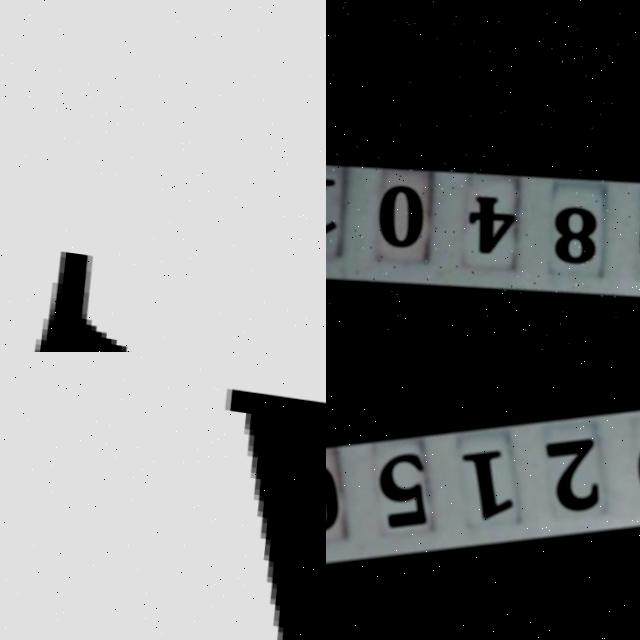0: (358, 164, 447, 270), (615, 182, 640, 299), (326, 445, 354, 546)
1: (448, 435, 528, 535), (326, 163, 364, 264)
2: (528, 419, 618, 531)
4: (445, 170, 540, 283)
5: (360, 437, 445, 543)
8: (533, 183, 621, 289)
9: (618, 411, 640, 518)
K: (161, 378, 326, 640)
